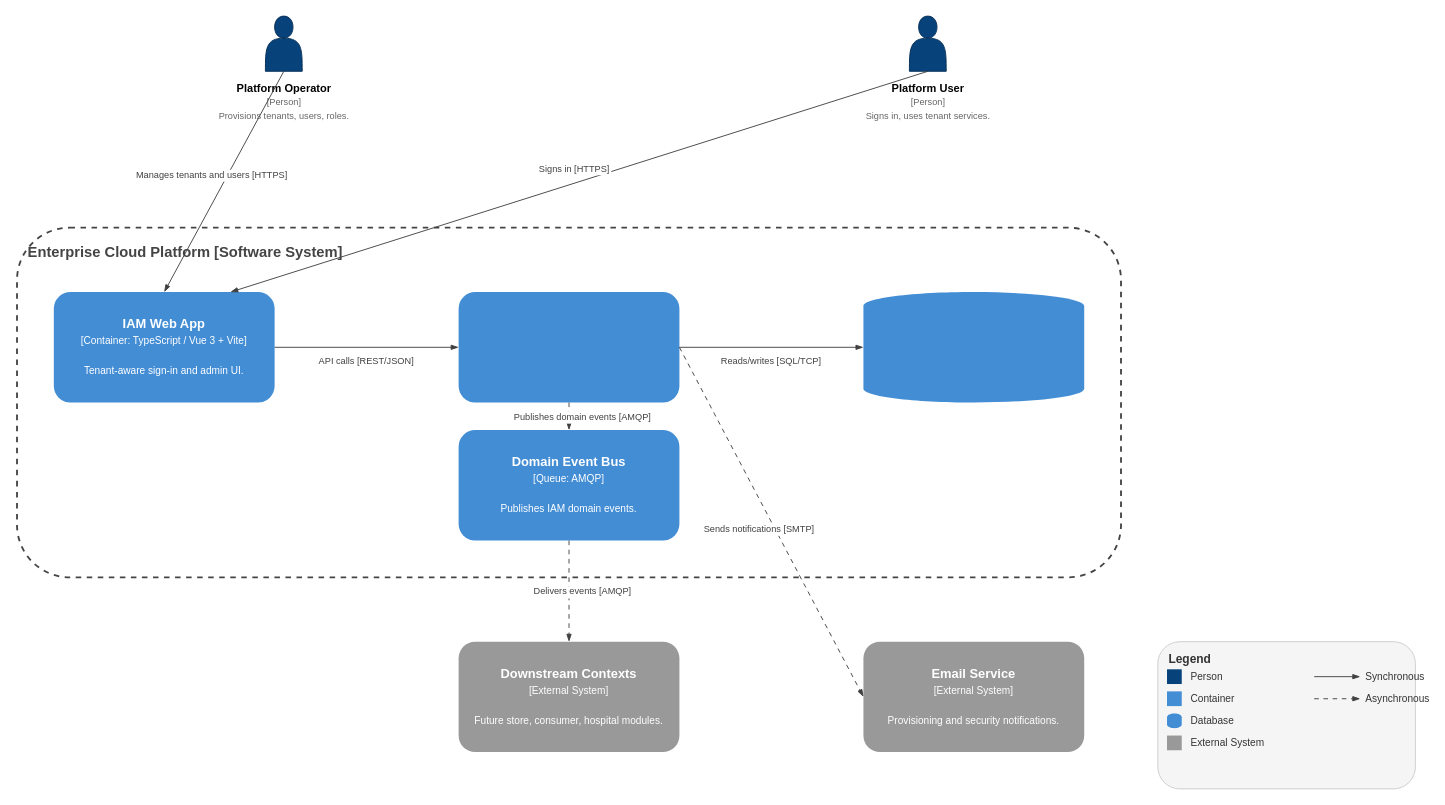
The diagram is 1445 pixels wide and 805 high, and some of its shapes have lost their labels. Each missing label, with the centre of its shape:
"IAM API [Container: C# / .NET 10] Auth, tenant resolution, authorization." goes at point (568, 347).
"IAM Database [Container: PostgreSQL] Tenants, users, roles, tenant_id isolation." goes at point (973, 347).
